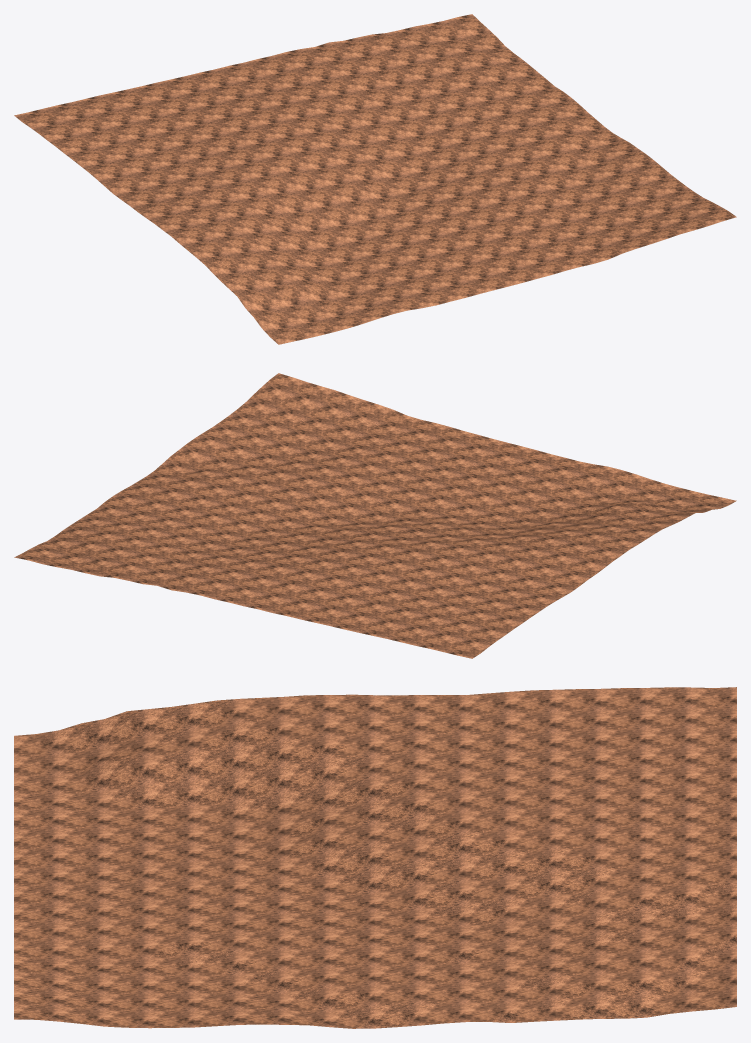
Rendered from terrain_11_17.dae.
The picture shows the model from 3 angles, top to bottom: view 1: azimuth 30°, elevation 25°; view 2: azimuth 150°, elevation 25°; view 3: azimuth 270°, elevation 25°; orthographic projection. The views are drawn at different scales.
Visible parts, largest first — view 1: terrain_11_17-node; view 2: terrain_11_17-node; view 3: terrain_11_17-node.
Boxes of the visible parts, x1,y1,x2,y2 form: terrain_11_17-node: (14, 14, 736, 344); terrain_11_17-node: (14, 373, 736, 658); terrain_11_17-node: (14, 687, 736, 1028).
Size of the model in its own units: 128 by 128 by 9.76.
1 material, 1 textured.
